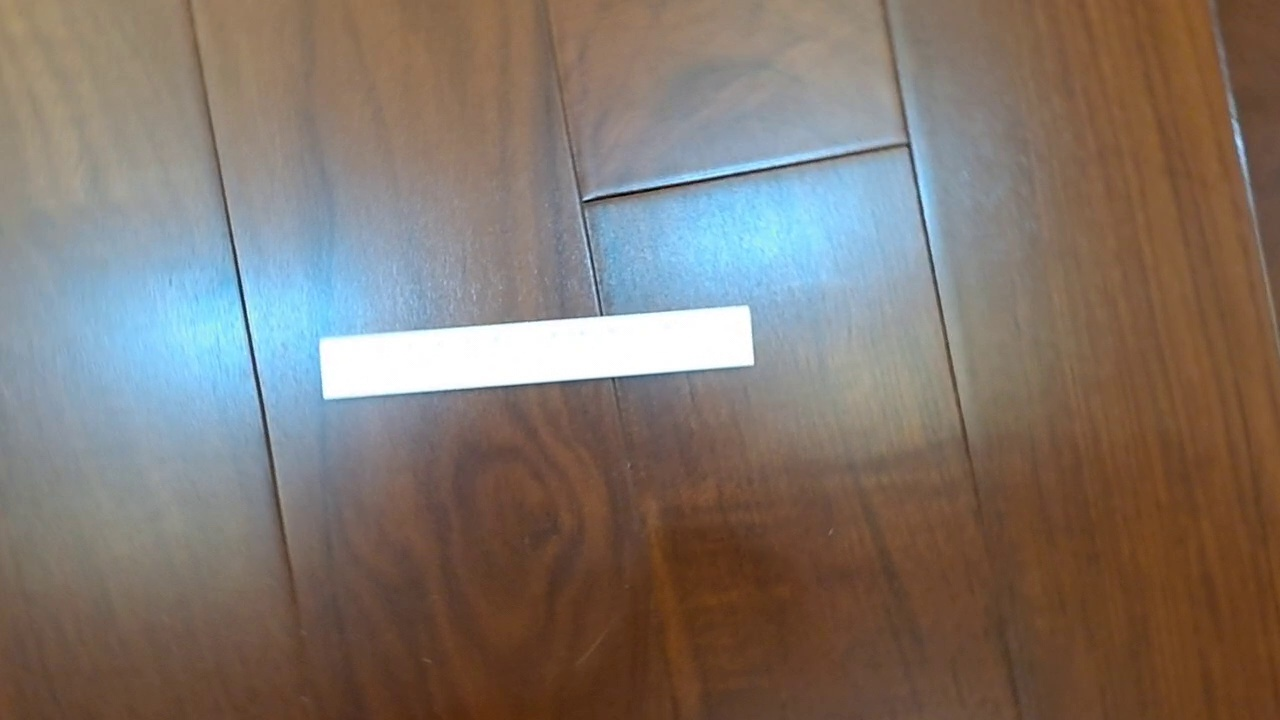ruler: (317, 303, 756, 402)
